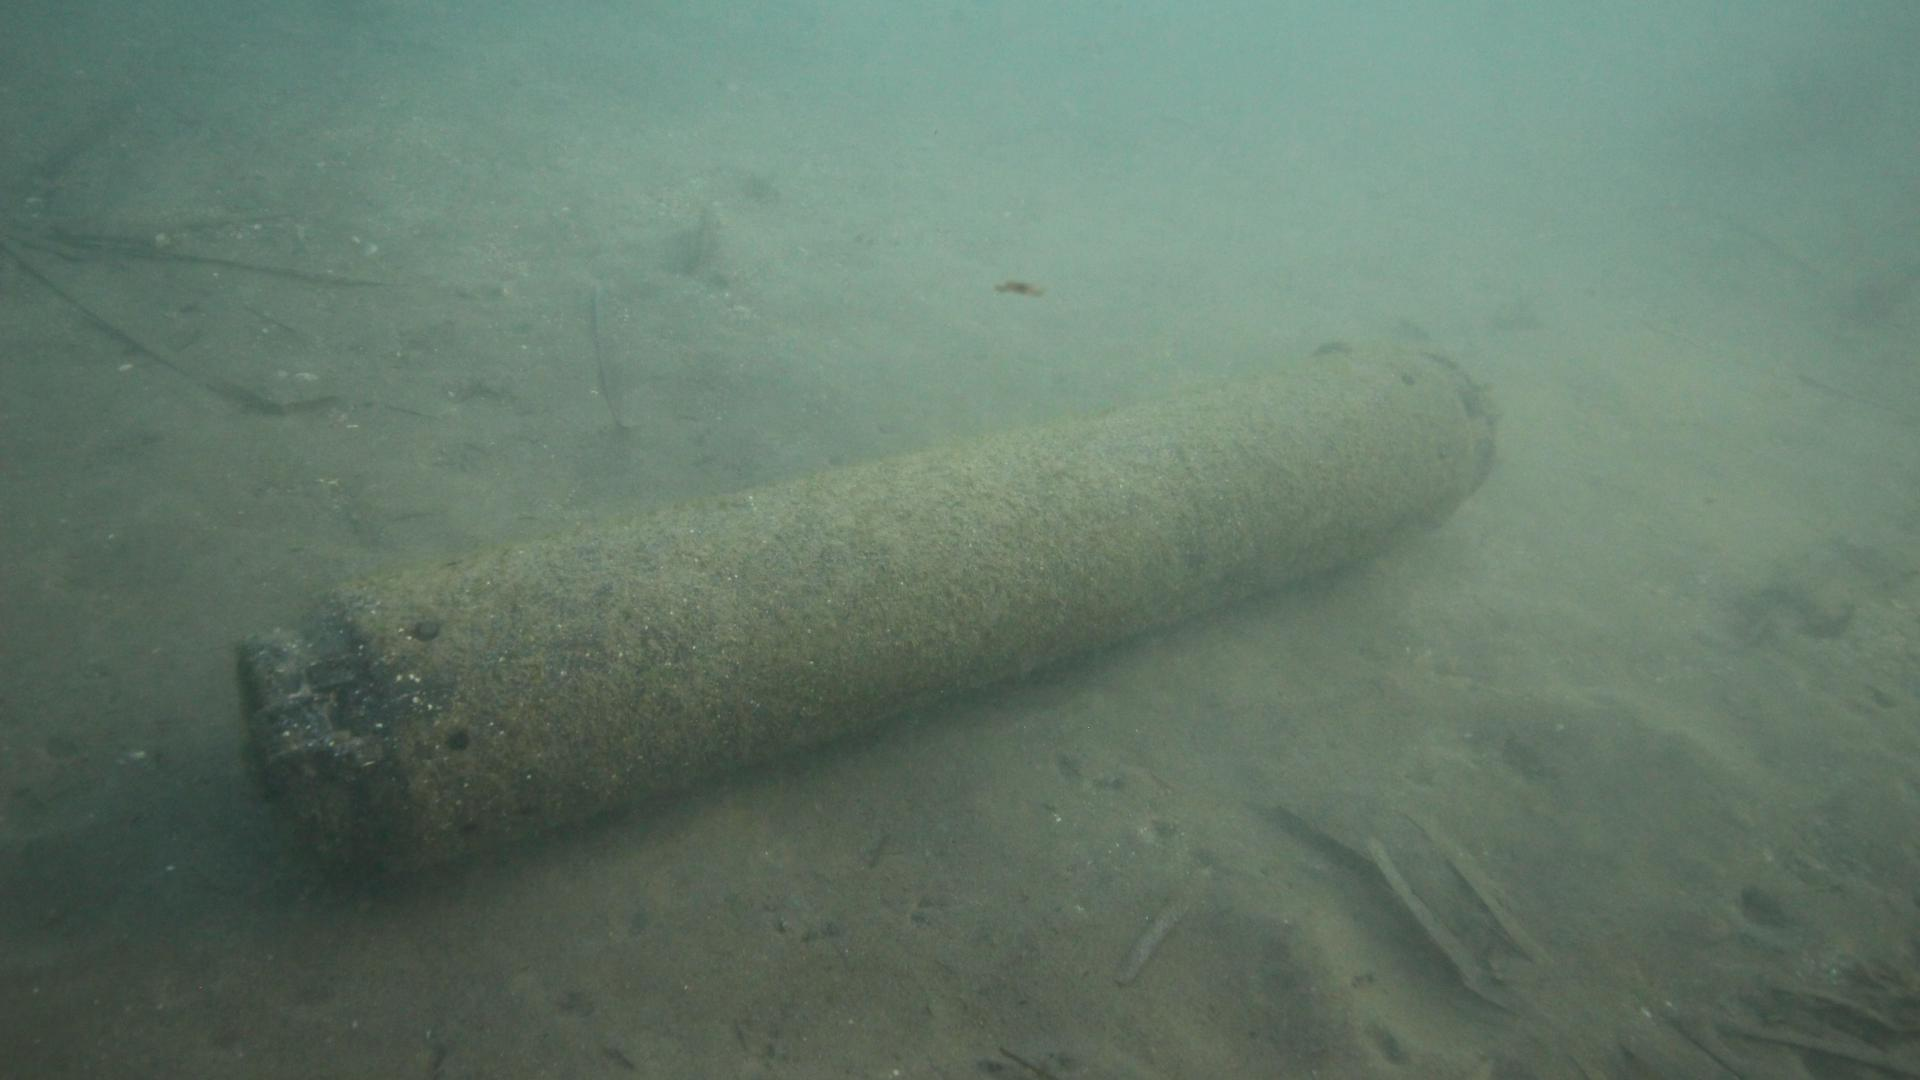eel fish trap: (237, 344, 1502, 884)
